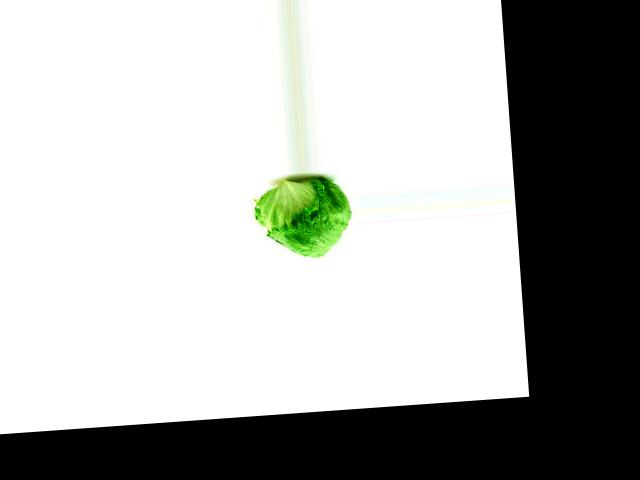lettuce: (252, 174, 357, 264)
